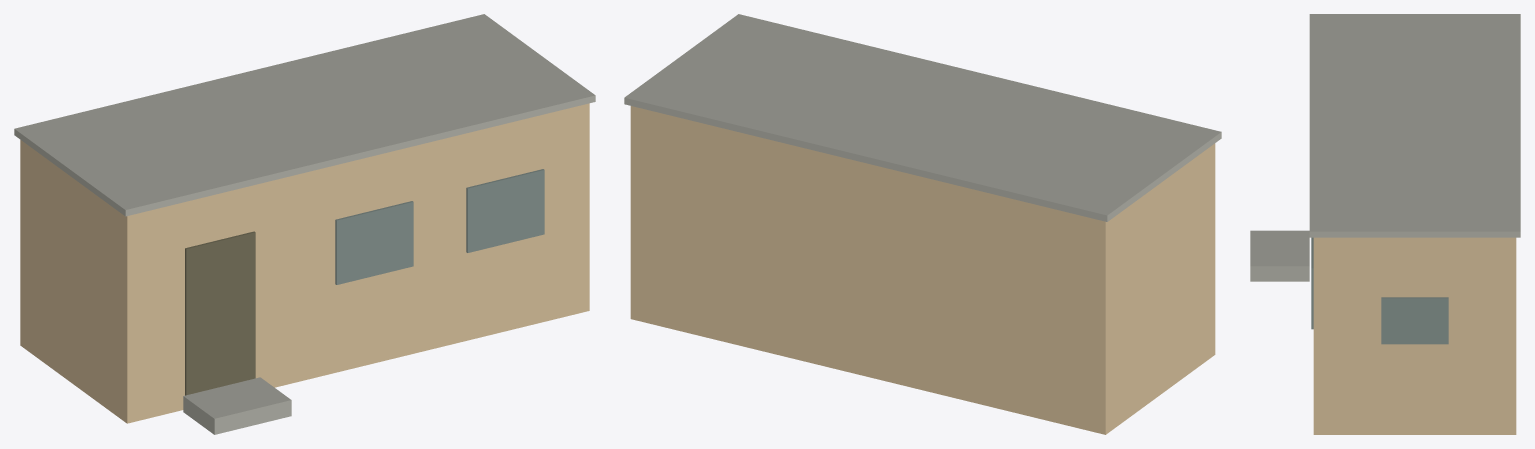
The model's file is SM_Caseta_v0_Oficina_LOD1.fbx.
3 renders of one model, left to right at view 1: azimuth 30°, elevation 25°; view 2: azimuth 150°, elevation 25°; view 3: azimuth 270°, elevation 25°, orthographic. The views are drawn at different scales.
Parts seen in each view (by area): view 1: SM_ambiente_aerodromo_v10_LOD1; view 2: SM_ambiente_aerodromo_v10_LOD1; view 3: SM_ambiente_aerodromo_v10_LOD1.
Part boxes in pixels (bbox=[...]): SM_ambiente_aerodromo_v10_LOD1: bbox=[14, 14, 595, 434]; SM_ambiente_aerodromo_v10_LOD1: bbox=[624, 14, 1221, 434]; SM_ambiente_aerodromo_v10_LOD1: bbox=[1250, 14, 1520, 434].
Size of the model in its own units: 6.1 by 2.68 by 3.2.
